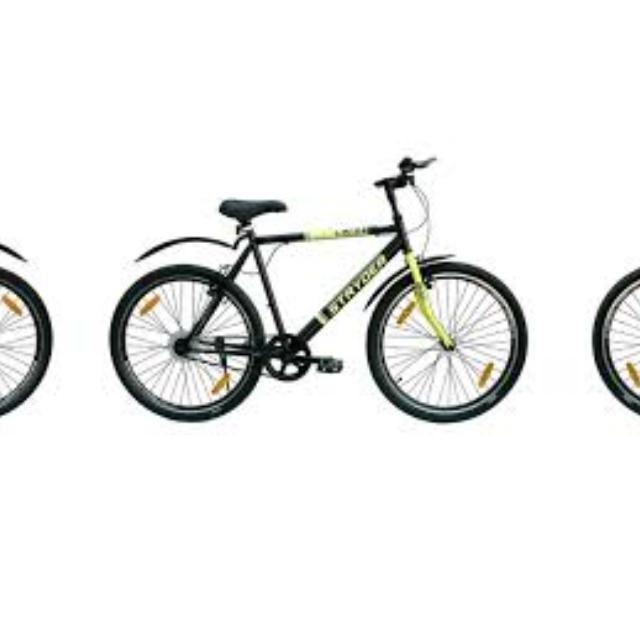obstacle: (98, 147, 548, 433), (570, 147, 640, 433), (0, 147, 62, 433)
